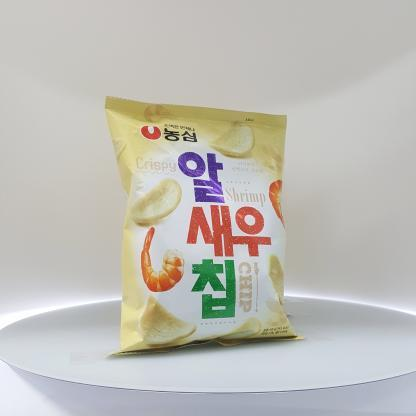Plastic Packaging: (97, 86, 307, 370)
